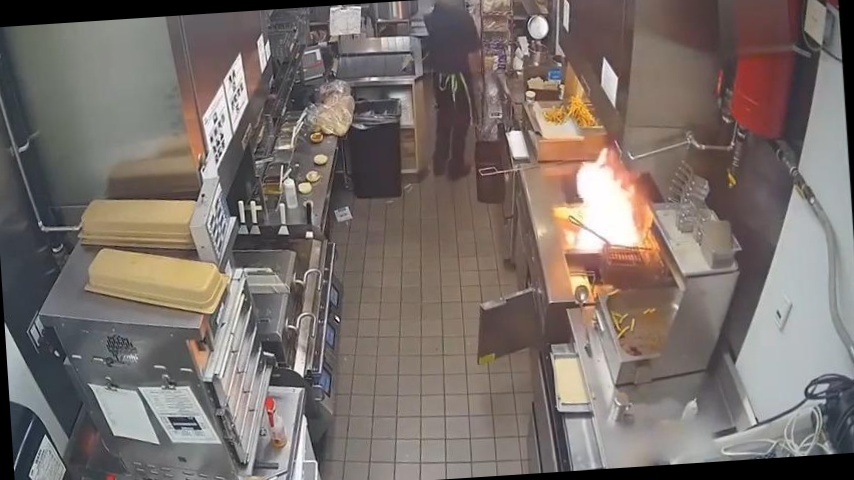fire: (544, 134, 666, 293)
